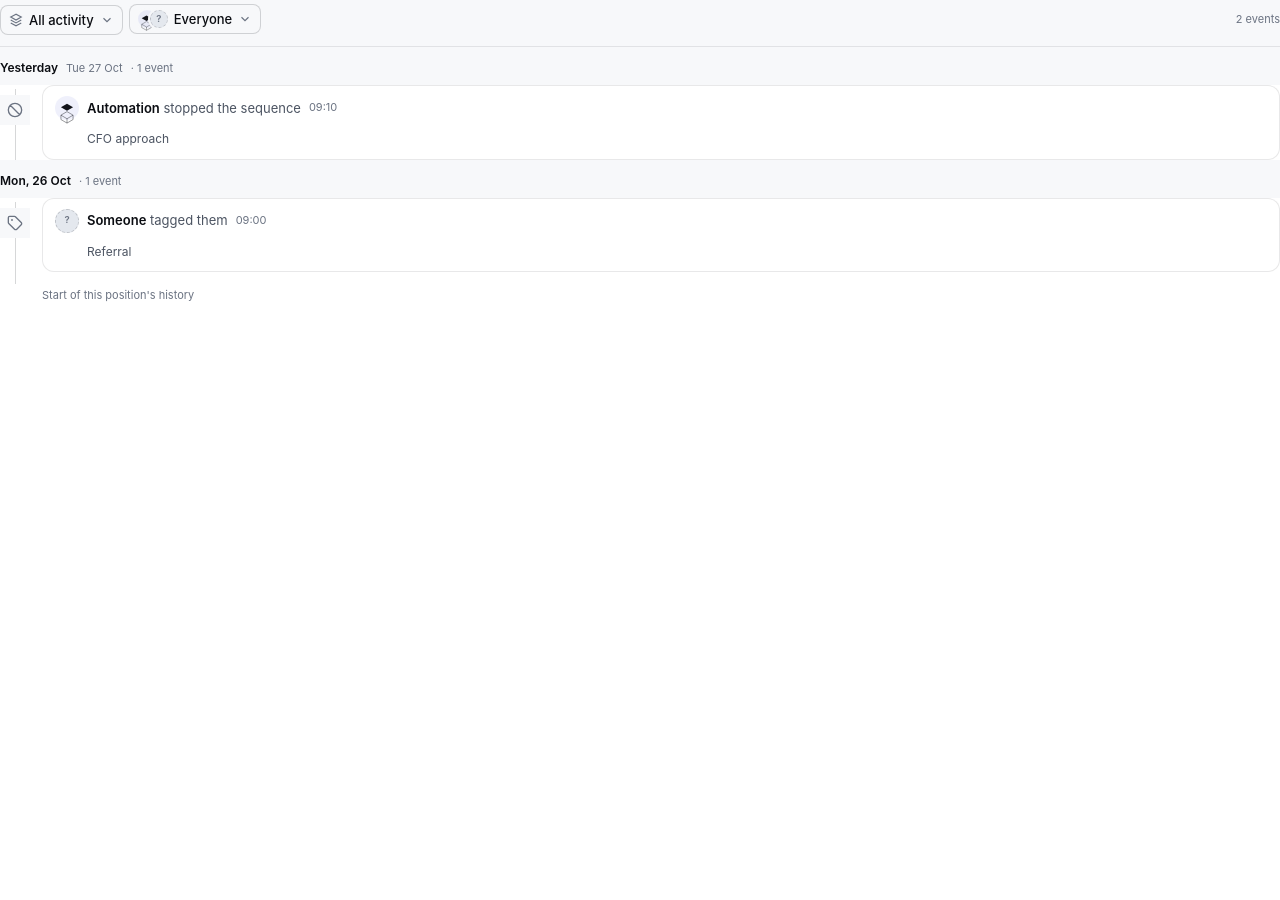
Test case: ActivityTimeline › faces › names Uncava as the automation and an unnamed actor as someone, never leaving a line anonymous
expect the element titled "Automation" below "Yesterday" is shown: met, box left=55, top=96, right=79, bottom=120
expect the button "? Someone tagged them 09:00 Referral" is shown: met, box left=42, top=198, right=1279, bottom=272
Click the button "Automation stopped the sequence 09:10 CFO approach" at (123, 108), box left=42, top=85, right=1279, bottom=160
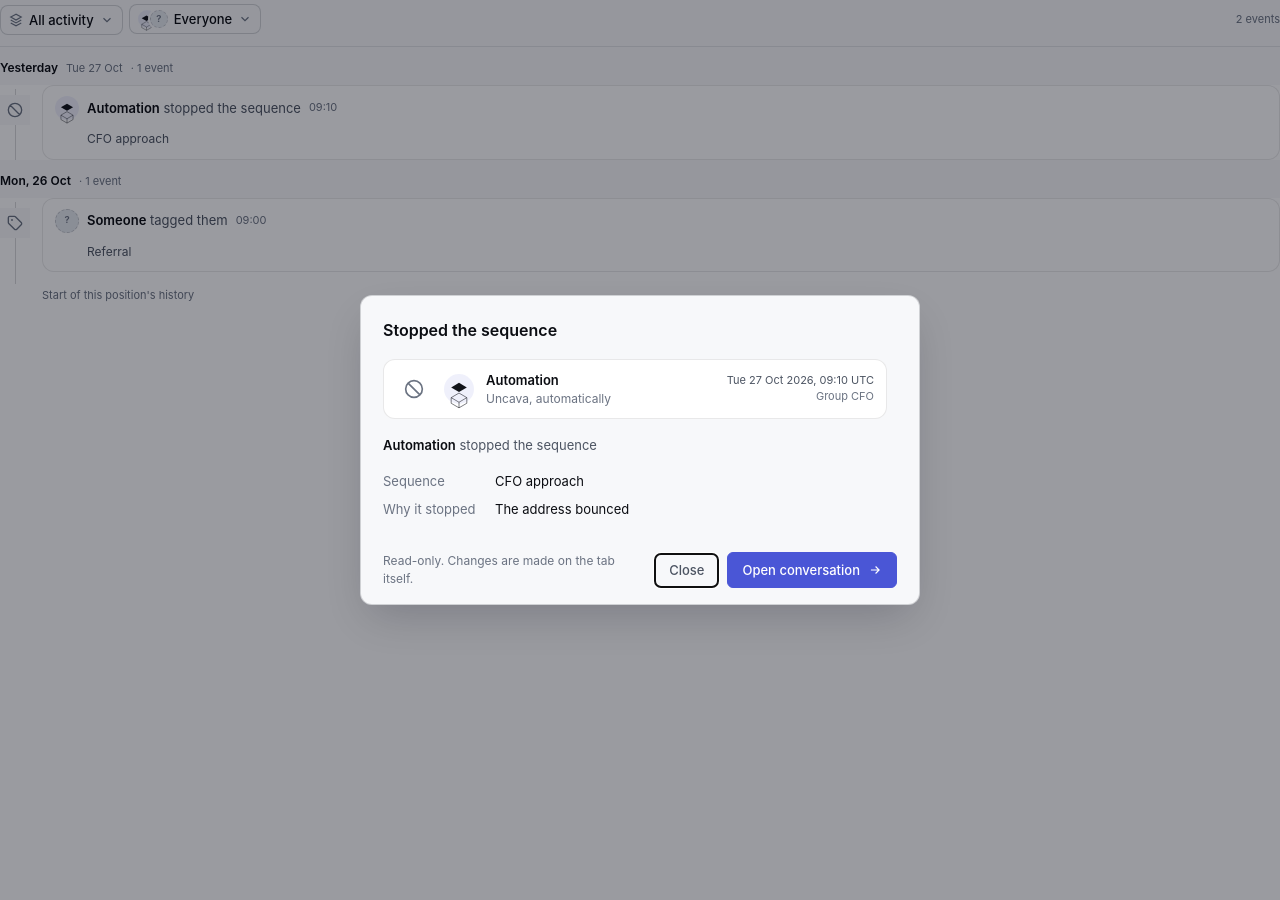
expect the text "The address bounced" is shown: met, box left=495, top=501, right=629, bottom=517
expect the text "Uncava, automatically" is shown: met, box left=486, top=391, right=611, bottom=406
expect the link "Open conversation" is shown: met, box left=728, top=552, right=897, bottom=588
